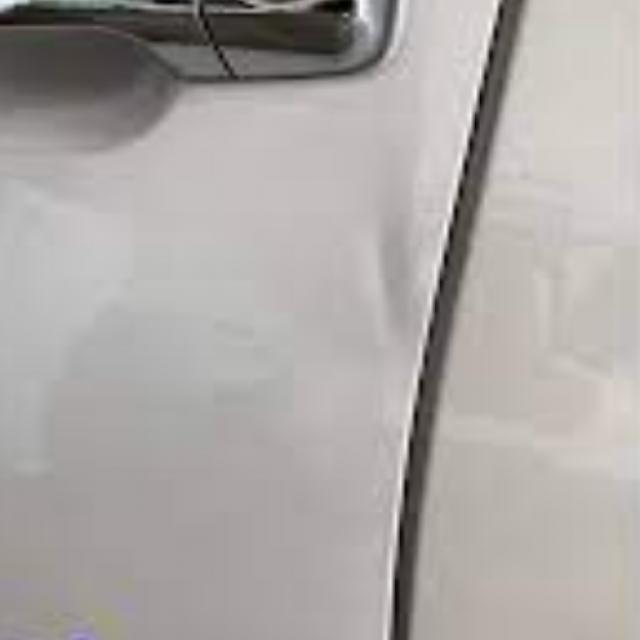dents: (329, 190, 433, 378)
